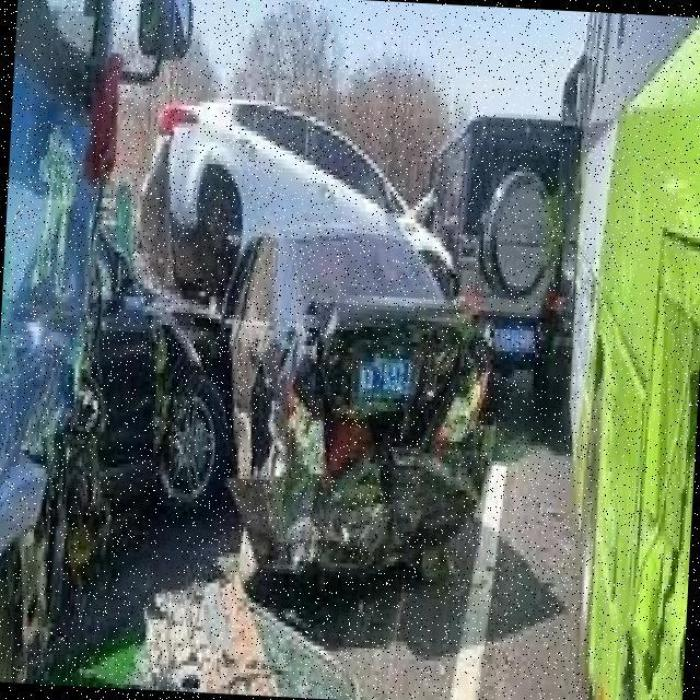Accident: (0, 68, 290, 688), (186, 195, 529, 628)
